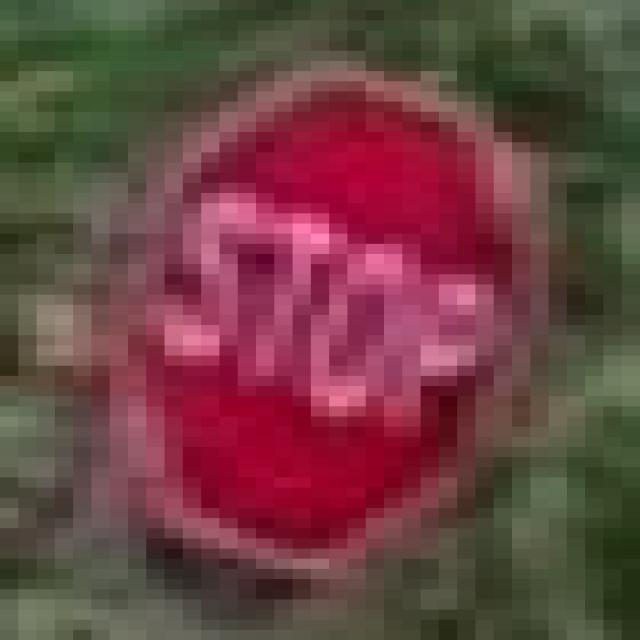Stop-Sign: (176, 70, 522, 556)
